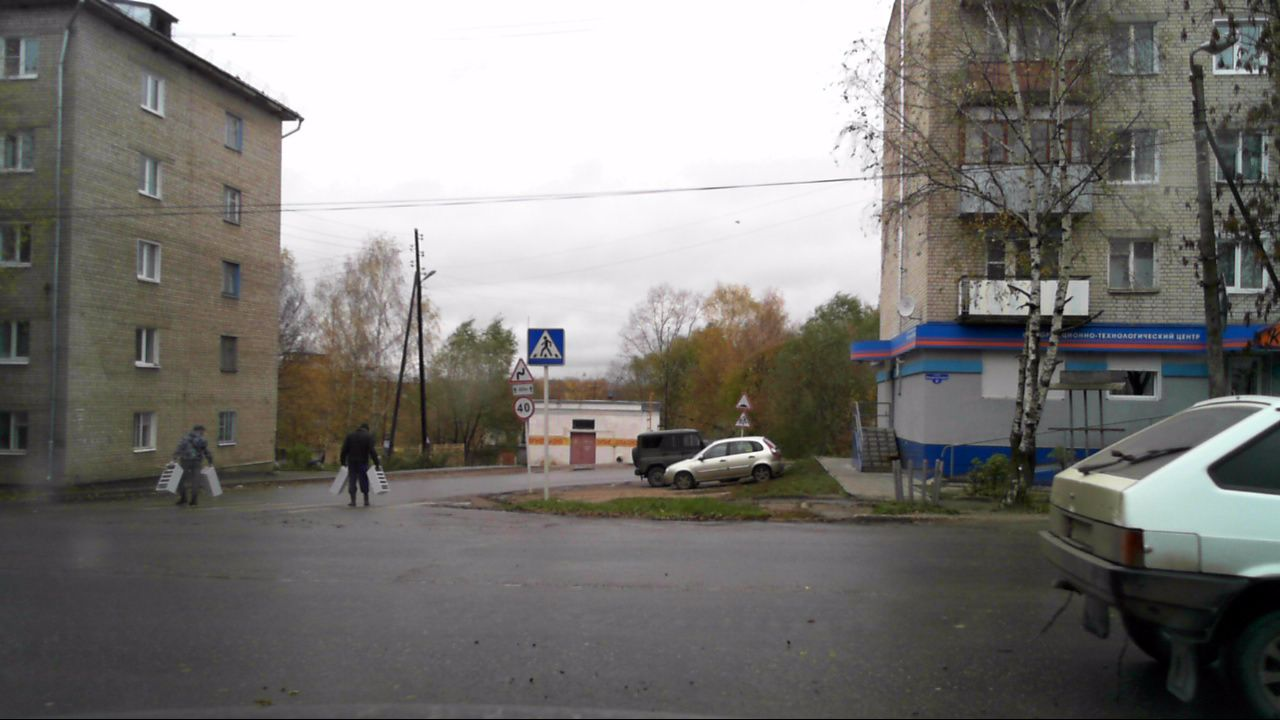speed_warning_40: (511, 394, 536, 419)
